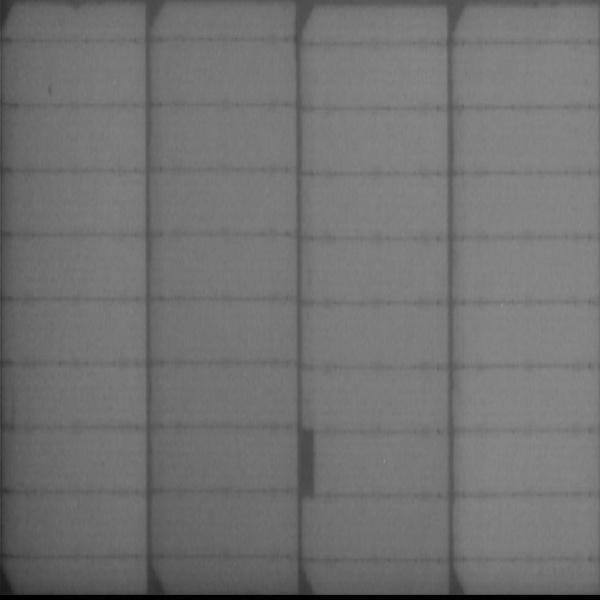black_border: (296, 424, 318, 501)
